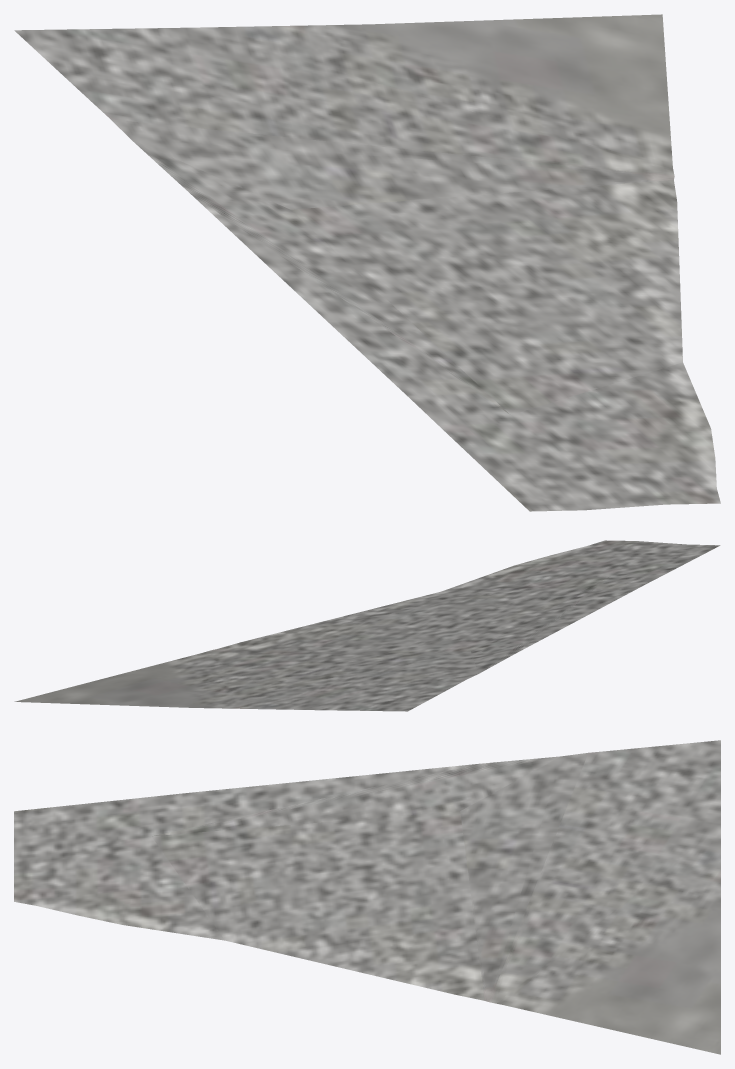
3 views of the same model, one above another, from view 1: azimuth 30°, elevation 25°; view 2: azimuth 150°, elevation 25°; view 3: azimuth 270°, elevation 25° (orthographic). The views are drawn at different scales.
Bounding box in the file's own units: 0.608 × 0.1276 × 0.8373.
2 materials, 2 textured.
